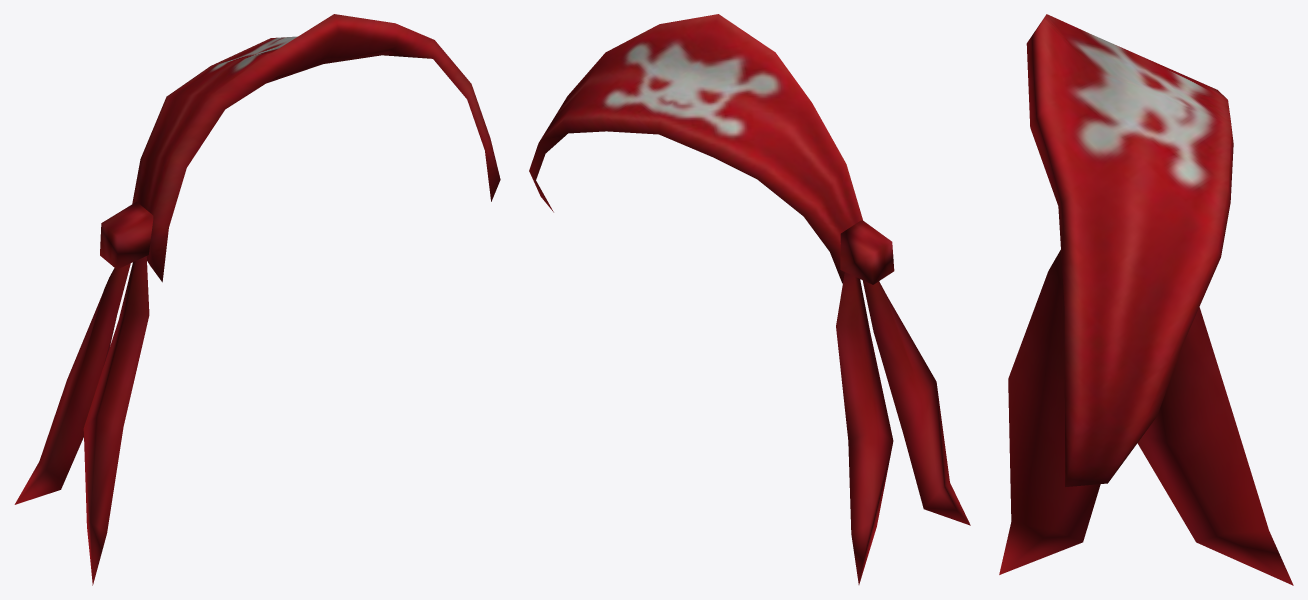
Rendered from pirateBandana.glb.
3 views of the same model, side by side, from view 1: azimuth 30°, elevation 25°; view 2: azimuth 150°, elevation 25°; view 3: azimuth 270°, elevation 25° (orthographic). The views are drawn at different scales.
Parts seen in each view (by area): view 1: pirateBandana; view 2: pirateBandana; view 3: pirateBandana.
Part boxes in pixels (left/top/right/bottom): pirateBandana: left=14, top=14, right=500, bottom=585; pirateBandana: left=529, top=14, right=970, bottom=584; pirateBandana: left=999, top=14, right=1293, bottom=585.
Size of the model in its own units: 0.6745 by 0.7445 by 0.2691.
Materials: 1 (1 with a texture image).
